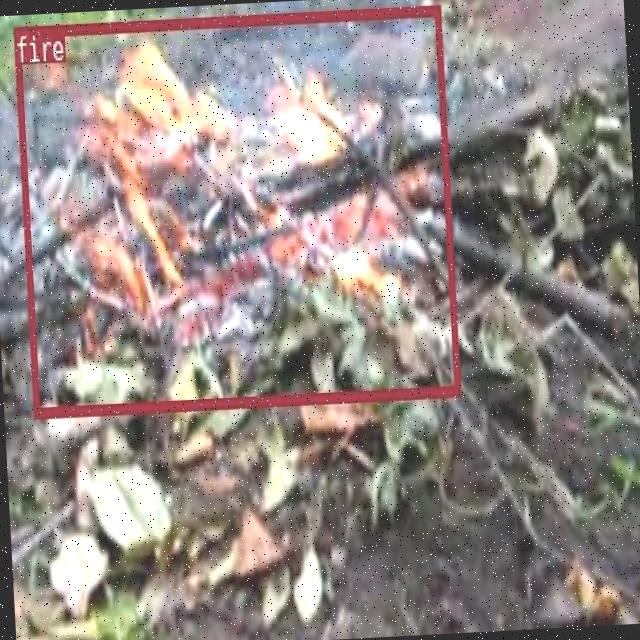fire: (12, 3, 459, 418)
